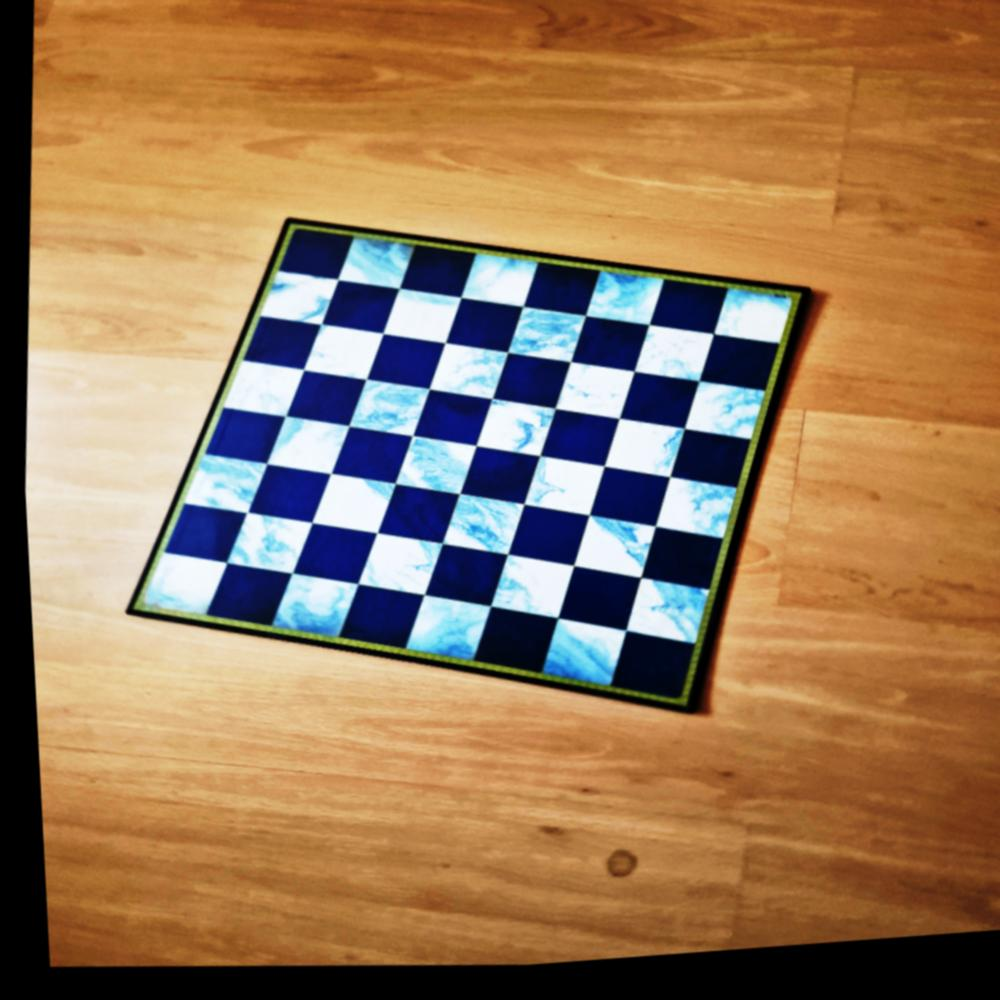chessfield: (399, 597, 493, 674), (482, 557, 574, 633), (533, 622, 622, 700), (621, 584, 708, 662), (351, 531, 442, 604), (271, 576, 360, 649), (550, 570, 639, 642), (221, 510, 310, 581), (470, 611, 557, 683), (519, 457, 608, 527), (604, 640, 688, 714), (137, 547, 223, 619), (651, 484, 737, 555), (710, 291, 797, 361), (310, 477, 396, 547), (293, 523, 380, 592), (436, 498, 523, 567), (504, 509, 592, 577), (569, 520, 653, 591), (631, 330, 718, 398), (268, 415, 356, 482), (204, 564, 292, 631), (424, 545, 507, 615), (455, 256, 542, 322), (600, 422, 684, 490), (393, 443, 478, 510), (375, 488, 460, 555), (637, 536, 720, 604), (684, 388, 767, 456), (585, 475, 670, 541), (503, 312, 588, 378), (348, 383, 434, 448), (336, 589, 419, 656), (187, 458, 270, 525), (245, 467, 329, 533), (550, 368, 634, 434), (582, 275, 667, 340), (473, 402, 555, 469), (306, 322, 390, 387), (224, 361, 306, 427), (384, 290, 467, 355), (334, 236, 419, 299), (430, 350, 513, 414), (537, 414, 621, 477), (169, 505, 250, 569), (366, 336, 448, 399), (666, 438, 748, 501), (458, 455, 538, 519), (333, 428, 414, 491), (648, 286, 730, 348), (290, 373, 370, 436), (623, 380, 703, 443), (490, 360, 571, 422), (413, 394, 495, 455), (205, 408, 286, 469), (567, 320, 647, 381), (522, 268, 602, 328), (266, 274, 344, 335), (446, 301, 524, 362), (396, 250, 475, 310), (276, 227, 355, 287), (700, 343, 777, 404), (242, 315, 318, 375), (325, 285, 402, 343)
